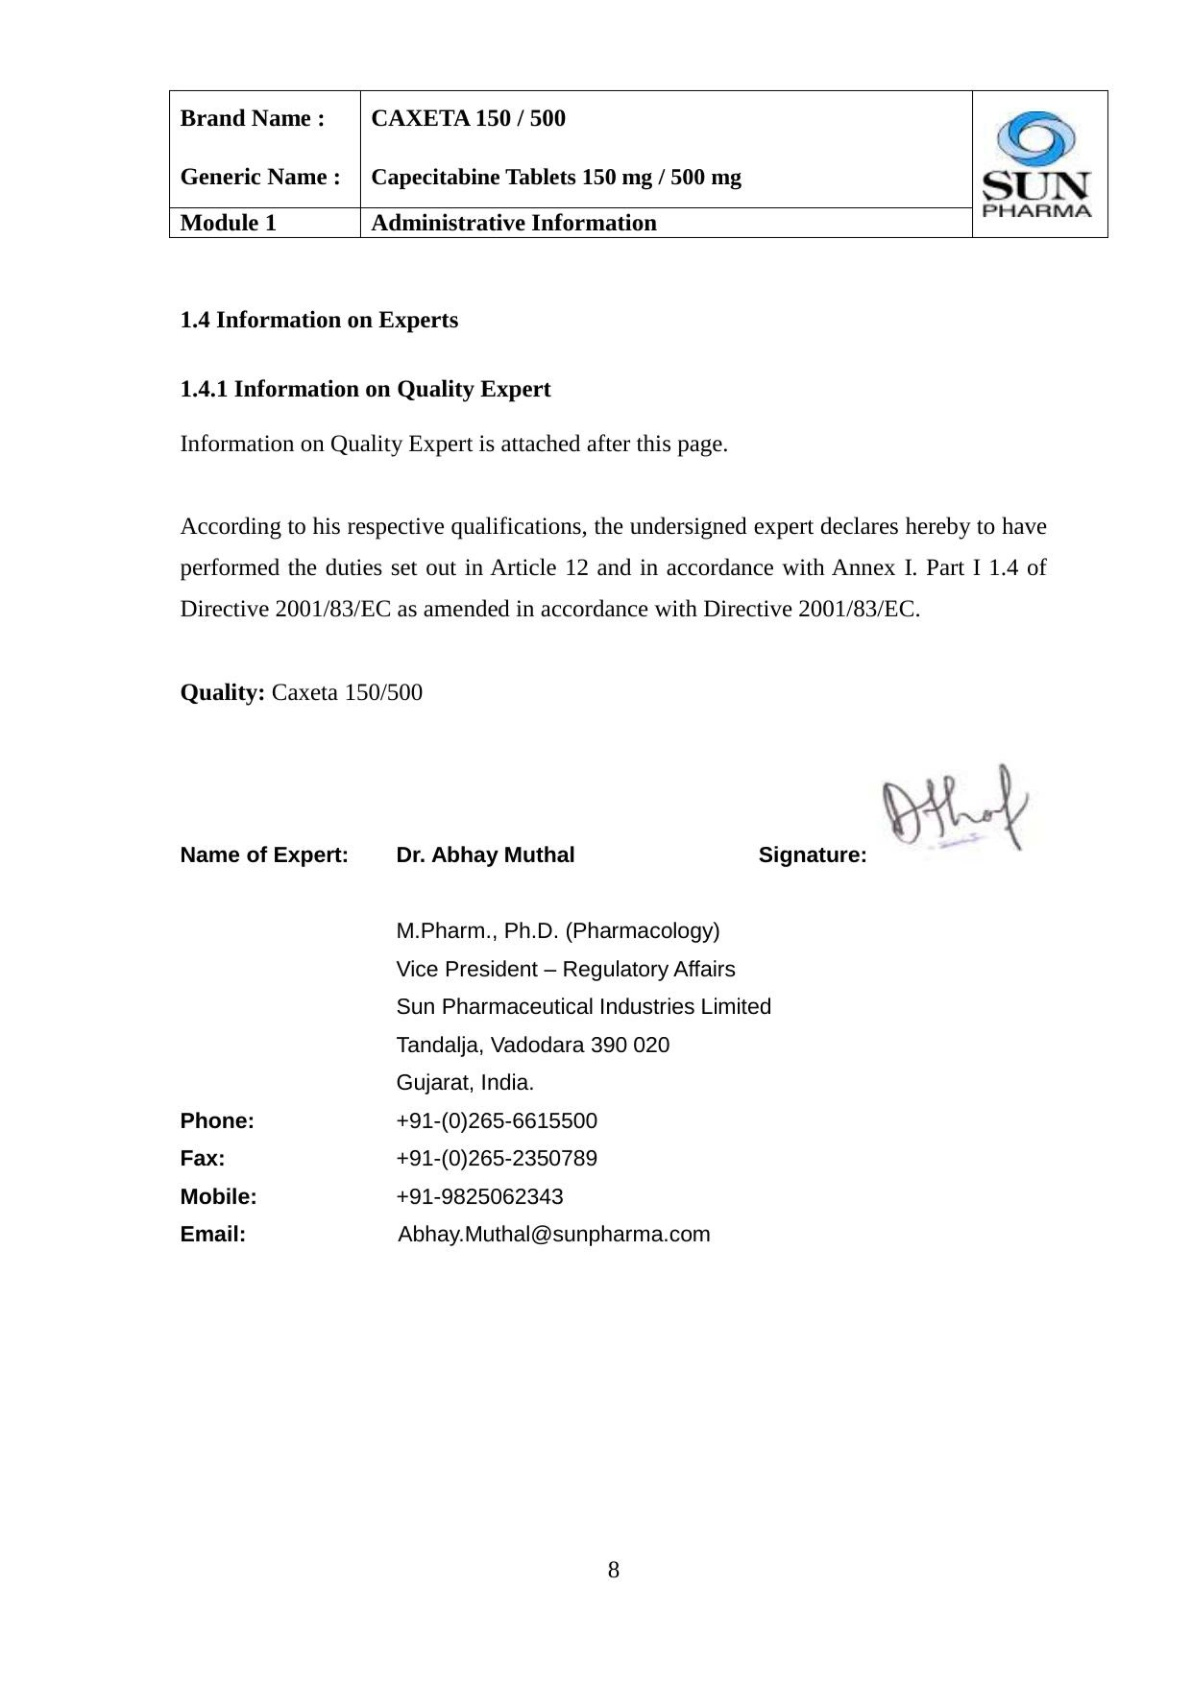merged_cells: (166, 88, 1109, 239)
nolines: (174, 843, 875, 1249)
